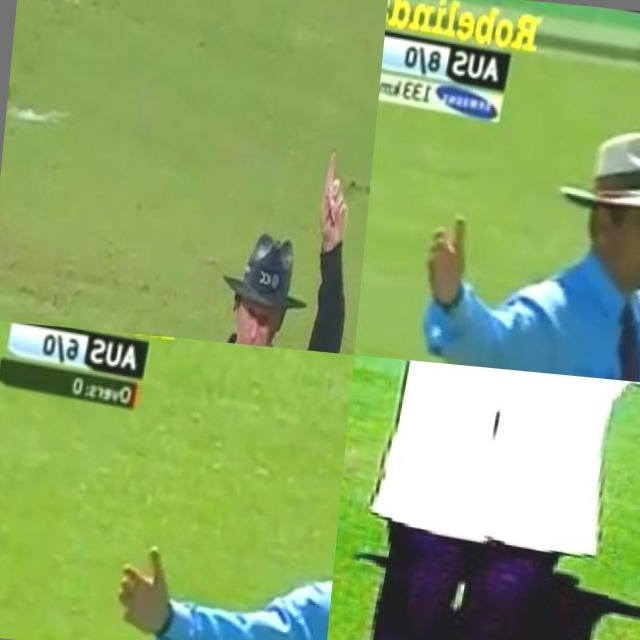No_Ball: (80, 379, 350, 640)
Out: (141, 111, 376, 355)
Wide: (324, 355, 640, 640), (377, 82, 640, 385)
